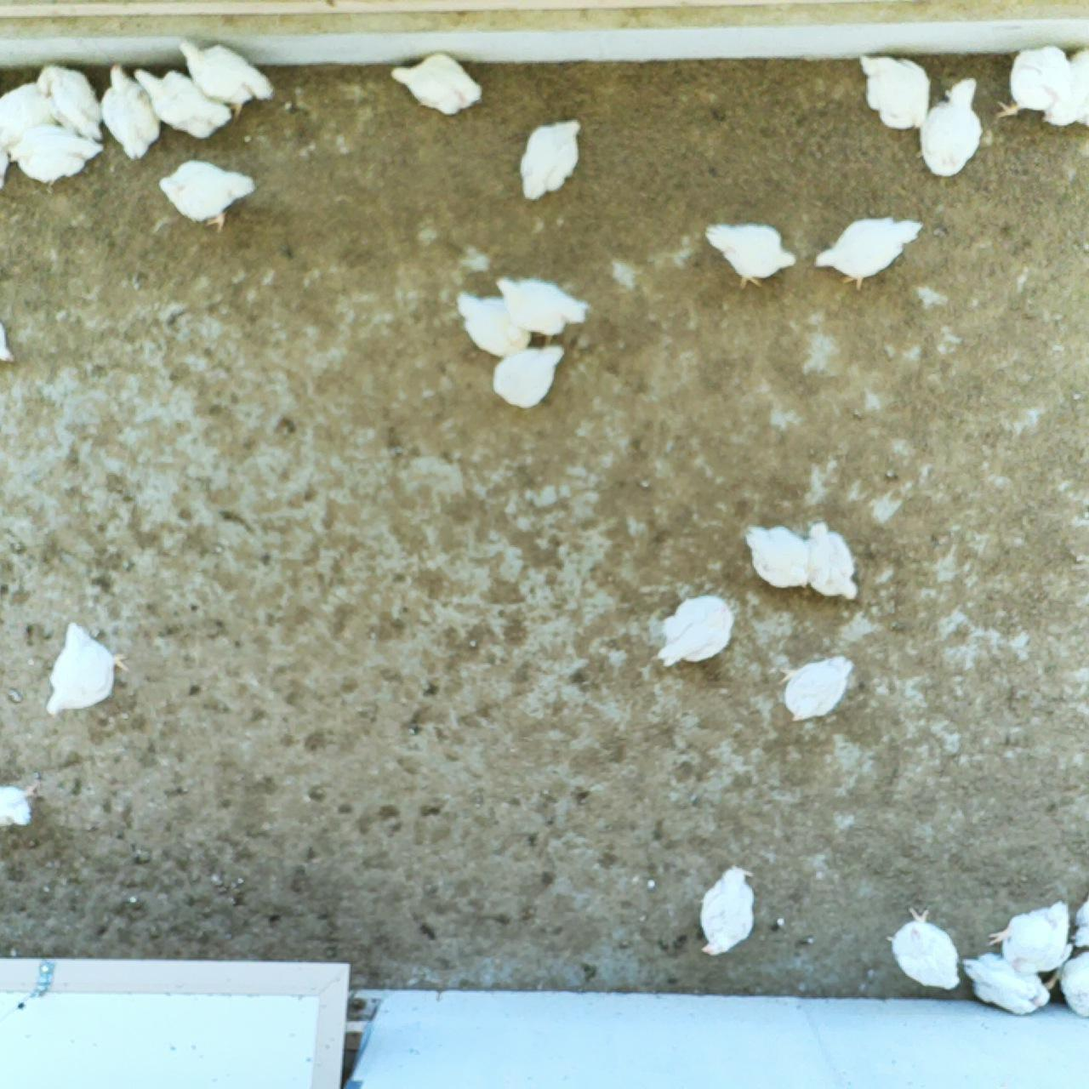chicken: (811, 212, 925, 292), (175, 36, 276, 120), (47, 615, 130, 717), (155, 156, 258, 236), (128, 62, 232, 140), (7, 120, 104, 193), (915, 80, 985, 181), (701, 220, 797, 290), (492, 271, 590, 339), (384, 52, 483, 119), (988, 896, 1070, 976), (95, 60, 158, 159), (658, 590, 736, 668), (694, 863, 758, 957), (851, 54, 929, 131), (32, 62, 105, 144), (999, 47, 1069, 131), (893, 904, 961, 990), (454, 288, 537, 357), (959, 953, 1050, 1015), (781, 653, 859, 723), (515, 118, 582, 198), (798, 516, 859, 601), (745, 519, 811, 591), (493, 344, 566, 408), (0, 78, 63, 144), (1053, 43, 1089, 133), (0, 778, 47, 831), (1058, 952, 1089, 1019), (1069, 893, 1089, 953), (0, 304, 15, 367), (0, 120, 14, 185)
